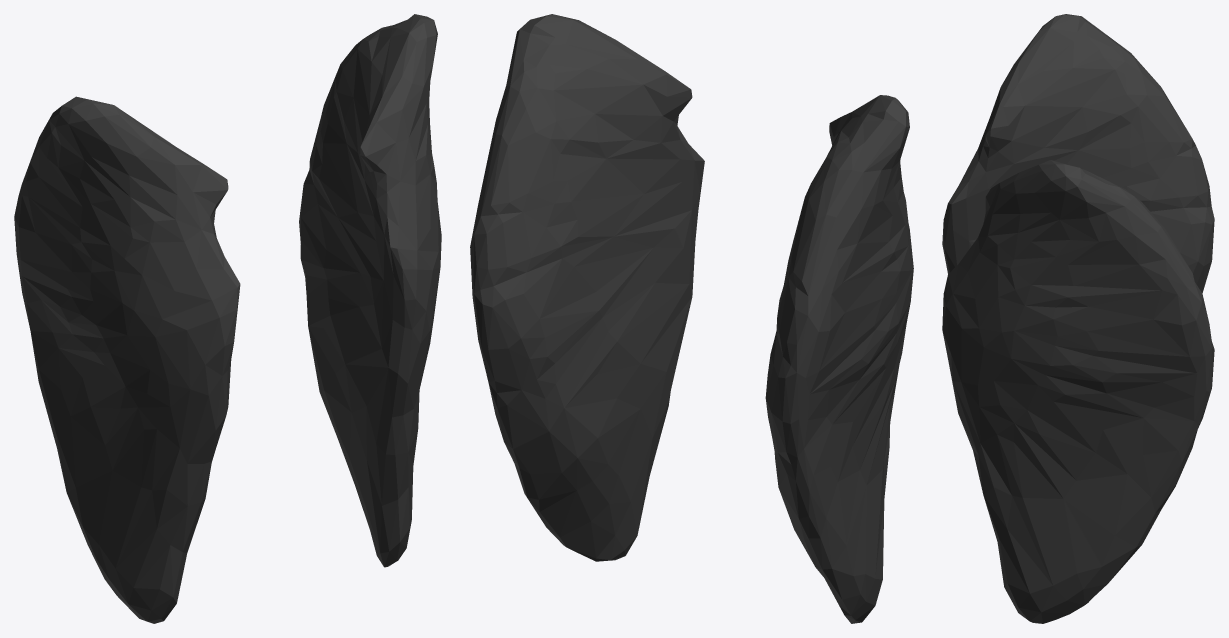
The model's file is m_pterygoid_medial.glb.
The picture shows the model from 3 angles, left to right: view 1: azimuth 30°, elevation 25°; view 2: azimuth 150°, elevation 25°; view 3: azimuth 270°, elevation 25°; orthographic projection. The views are drawn at different scales.
Visible parts, largest first — view 1: m_pterygoid_medial; view 2: m_pterygoid_medial; view 3: m_pterygoid_medial.
Boxes of the visible parts, bbox=[...] form: m_pterygoid_medial: bbox=[14, 14, 441, 623]; m_pterygoid_medial: bbox=[470, 14, 913, 623]; m_pterygoid_medial: bbox=[942, 14, 1214, 623].
Bounding box in the file's own units: 0.0025 × 0.00335 × 0.00172.
Materials: 1 (1 with a texture image).
